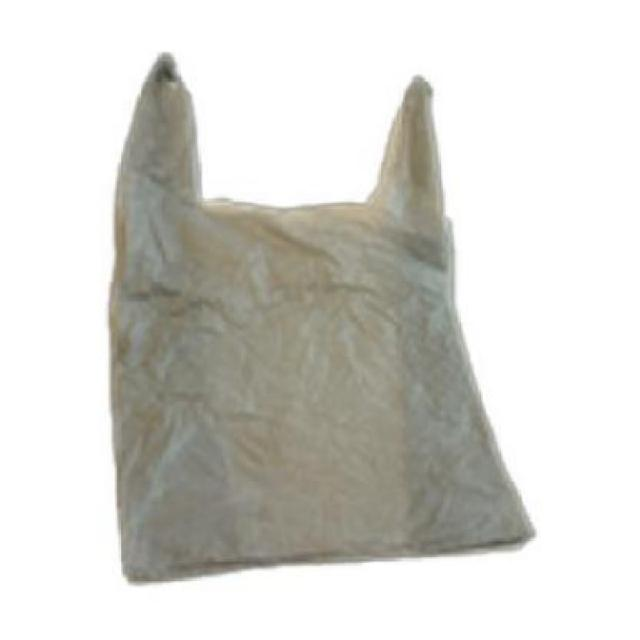plastic bag: (105, 46, 547, 592)
